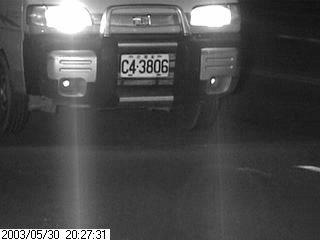plate: (118, 51, 170, 79)
